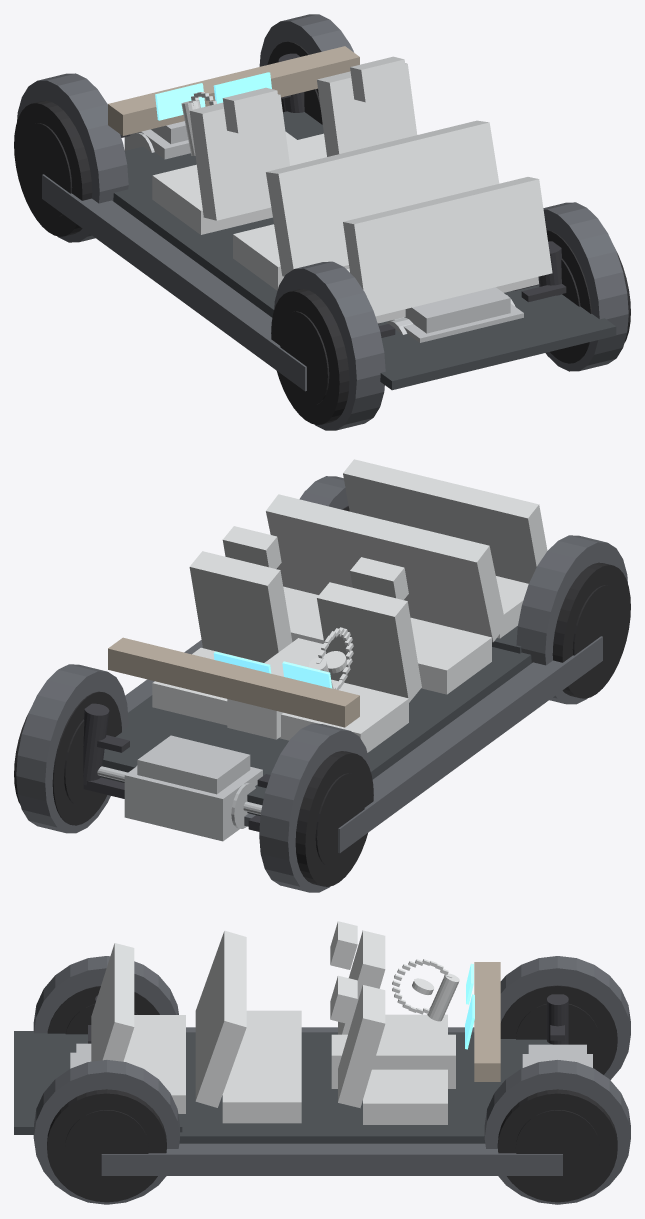
The model's file is Car_Rivian_R1S_Chassis.glb.
The picture shows the model from 3 angles, top to bottom: view 1: azimuth 30°, elevation 25°; view 2: azimuth 150°, elevation 25°; view 3: azimuth 270°, elevation 25°; orthographic projection. The views are drawn at different scales.
Visible parts, largest first — view 1: INTERIOR_Vegan_Ocean_Coast_7Seats, CHASSIS_EV_Skateboard_Frame, INTERIOR_Recycled_Adventure_Floor_Tub, WHEEL_RL_Pirelli_EV_Tire, WHEEL_FL_Pirelli_EV_Tire, INTERIOR_Natural_Ash_Wood_Beam, POWERTRAIN_Rear_Dual_Motor_Drive_Unit, WHEEL_RR_Pirelli_EV_Tire, POWERTRAIN_Front_Dual_Motor_Drive_Unit, SUSP_Rear_Air_Suspension_Assemblies, INTERIOR_123in_Driver_Digital_Cluster, WHEEL_FR_Pirelli_EV_Tire (+3 smaller); view 2: INTERIOR_Vegan_Ocean_Coast_7Seats, CHASSIS_EV_Skateboard_Frame, INTERIOR_Recycled_Adventure_Floor_Tub, POWERTRAIN_Front_Dual_Motor_Drive_Unit, INTERIOR_Natural_Ash_Wood_Beam, WHEEL_FL_Pirelli_EV_Tire, WHEEL_RL_Pirelli_EV_Tire, WHEEL_FR_Pirelli_EV_Tire, SUSP_Front_Air_Suspension_Assemblies, INTERIOR_Center_Console_Body, INTERIOR_Rivian_Squircle_Steering_Wheel, INTERIOR_123in_Driver_Digital_Cluster; view 3: INTERIOR_Vegan_Ocean_Coast_7Seats, CHASSIS_EV_Skateboard_Frame, INTERIOR_Recycled_Adventure_Floor_Tub, WHEEL_FR_Pirelli_EV_Tire, WHEEL_RR_Pirelli_EV_Tire, WHEEL_FL_Pirelli_EV_Tire, INTERIOR_Center_Console_Body, INTERIOR_Natural_Ash_Wood_Beam, WHEEL_RL_Pirelli_EV_Tire, INTERIOR_Rivian_Squircle_Steering_Wheel, POWERTRAIN_Front_Dual_Motor_Drive_Unit, SUSP_Front_Air_Suspension_Assemblies (+1 smaller).
Part boxes in pixels (<box>): INTERIOR_Vegan_Ocean_Coast_7Seats: <box>152,56,552,323</box>; CHASSIS_EV_Skateboard_Frame: <box>17,14,628,430</box>; INTERIOR_Recycled_Adventure_Floor_Tub: <box>113,111,616,390</box>; WHEEL_RL_Pirelli_EV_Tire: <box>271,289,349,424</box>; WHEEL_FL_Pirelli_EV_Tire: <box>14,100,92,236</box>; INTERIOR_Natural_Ash_Wood_Beam: <box>108,46,359,135</box>; POWERTRAIN_Rear_Dual_Motor_Drive_Unit: <box>386,287,523,342</box>; WHEEL_RR_Pirelli_EV_Tire: <box>546,229,630,363</box>; POWERTRAIN_Front_Dual_Motor_Drive_Unit: <box>124,121,190,159</box>; SUSP_Rear_Air_Suspension_Assemblies: <box>378,241,566,337</box>; INTERIOR_123in_Driver_Digital_Cluster: <box>155,83,205,120</box>; WHEEL_FR_Pirelli_EV_Tire: <box>267,41,322,124</box>; INTERIOR_Vegan_Ocean_Coast_7Seats: <box>152,459,547,752</box>; CHASSIS_EV_Skateboard_Frame: <box>16,476,627,892</box>; INTERIOR_Recycled_Adventure_Floor_Tub: <box>101,626,531,815</box>; POWERTRAIN_Front_Dual_Motor_Drive_Unit: <box>97,735,262,841</box>; INTERIOR_Natural_Ash_Wood_Beam: <box>108,637,359,727</box>; WHEEL_FL_Pirelli_EV_Tire: <box>295,751,373,886</box>; WHEEL_RL_Pirelli_EV_Tire: <box>552,562,630,698</box>; WHEEL_FR_Pirelli_EV_Tire: <box>14,691,121,825</box>; SUSP_Front_Air_Suspension_Assemblies: <box>83,703,270,831</box>; INTERIOR_Center_Console_Body: <box>227,638,325,739</box>; INTERIOR_Rivian_Squircle_Steering_Wheel: <box>308,627,353,689</box>; INTERIOR_123in_Driver_Digital_Cluster: <box>282,661,332,688</box>; INTERIOR_Vegan_Ocean_Coast_7Seats: <box>91,921,447,1124</box>; CHASSIS_EV_Skateboard_Frame: <box>33,956,630,1204</box>; INTERIOR_Recycled_Adventure_Floor_Tub: <box>14,1031,552,1143</box>; WHEEL_FR_Pirelli_EV_Tire: <box>497,1089,617,1202</box>; WHEEL_RR_Pirelli_EV_Tire: <box>47,1089,166,1202</box>; WHEEL_FL_Pirelli_EV_Tire: <box>500,985,617,1074</box>; INTERIOR_Center_Console_Body: <box>331,1034,455,1088</box>; INTERIOR_Natural_Ash_Wood_Beam: <box>474,962,500,1081</box>; WHEEL_RL_Pirelli_EV_Tire: <box>47,986,159,1034</box>; INTERIOR_Rivian_Squircle_Steering_Wheel: <box>392,959,459,1021</box>; POWERTRAIN_Front_Dual_Motor_Drive_Unit: <box>522,1044,592,1067</box>; SUSP_Front_Air_Suspension_Assemblies: <box>546,994,568,1044</box>.
Size of the model in its own units: 2.06 by 1.42 by 4.22.
